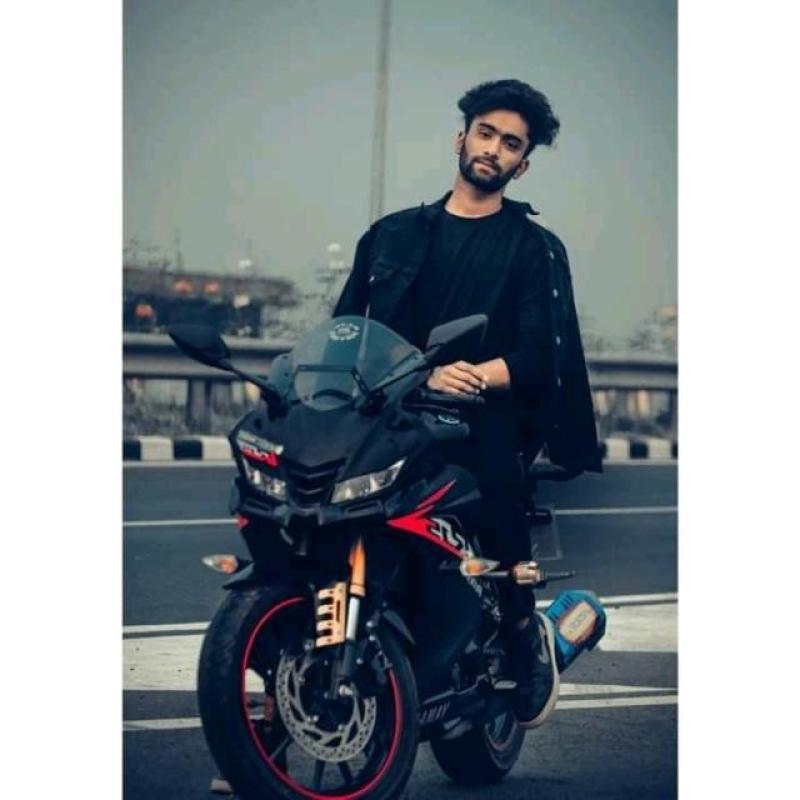nohelmet: (446, 78, 550, 192)
